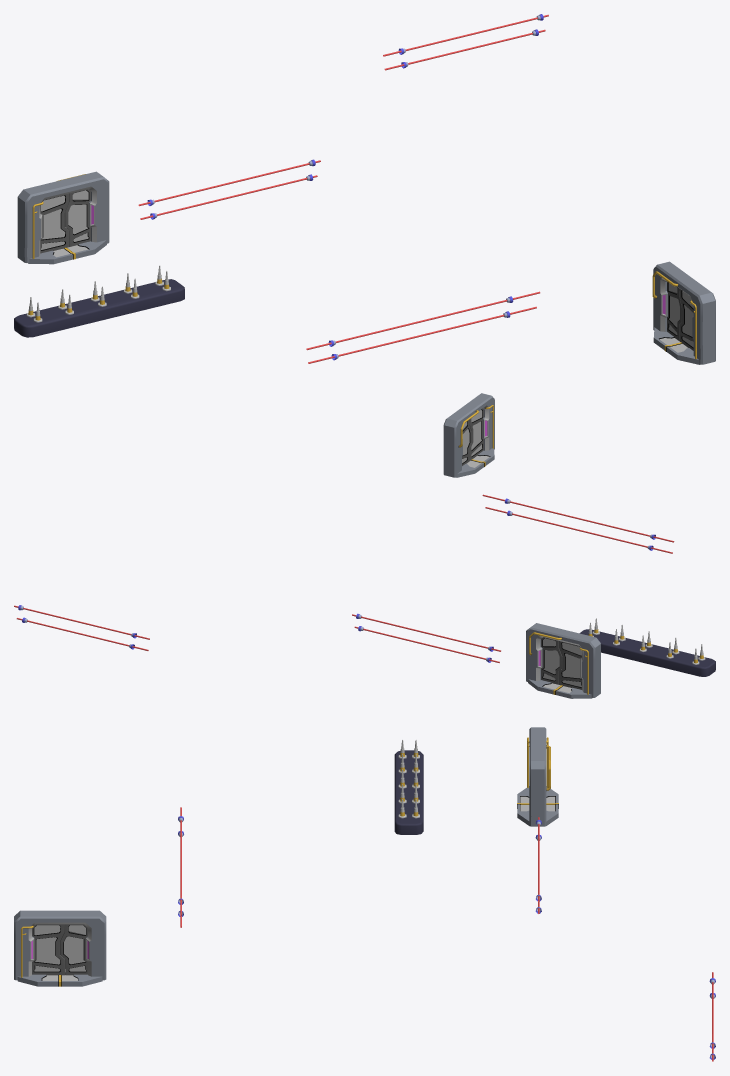
The picture shows the model from 3 angles, top to bottom: view 1: azimuth 30°, elevation 25°; view 2: azimuth 150°, elevation 25°; view 3: azimuth 270°, elevation 25°; orthographic projection. The views are drawn at different scales.
Parts seen in each view (by area): view 1: Base (×3), Right (×2), Left (×2), Base5 (×2), Laser (×2); view 2: Base (×3), Right (×2), Base5 (×2), Left; view 3: Base (×3), Base5 (×2), Right, Left.
Boxes of the visible parts, x1=… form: Base (×3): x1=14, y1=171, x2=715, y2=364; Right (×2): x1=40, y1=193, x2=693, y2=350; Left (×2): x1=65, y1=189, x2=681, y2=340; Base5 (×2): x1=28, y1=240, x2=700, y2=364; Laser (×2): x1=306, y1=291, x2=540, y2=363; Base (×3): x1=443, y1=393, x2=715, y2=697; Right (×2): x1=469, y1=408, x2=582, y2=689; Base5 (×2): x1=456, y1=448, x2=592, y2=698; Left: x1=541, y1=637, x2=562, y2=684; Base (×3): x1=14, y1=727, x2=546, y2=980; Base5 (×2): x1=17, y1=786, x2=558, y2=986; Right: x1=32, y1=924, x2=65, y2=975; Left: x1=60, y1=924, x2=87, y2=975.
Bounding box in the file's own units: 446 × 44.7 × 415.
